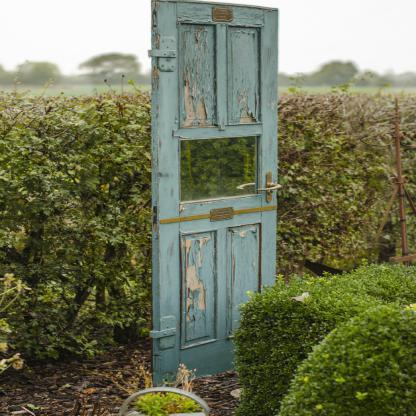door: (150, 0, 288, 381)
lever: (256, 180, 284, 196)
